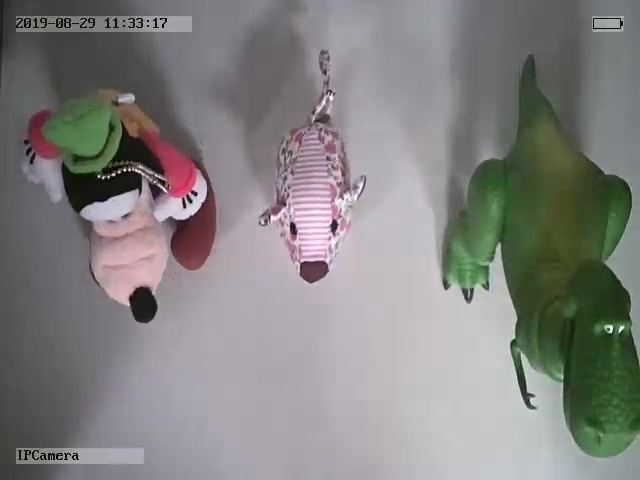goofy: (16, 84, 218, 325)
pig: (257, 47, 368, 284)
rex: (440, 49, 640, 460)
